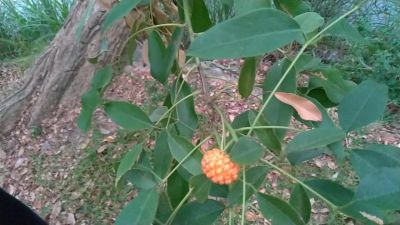eggs: (200, 146, 242, 185)
